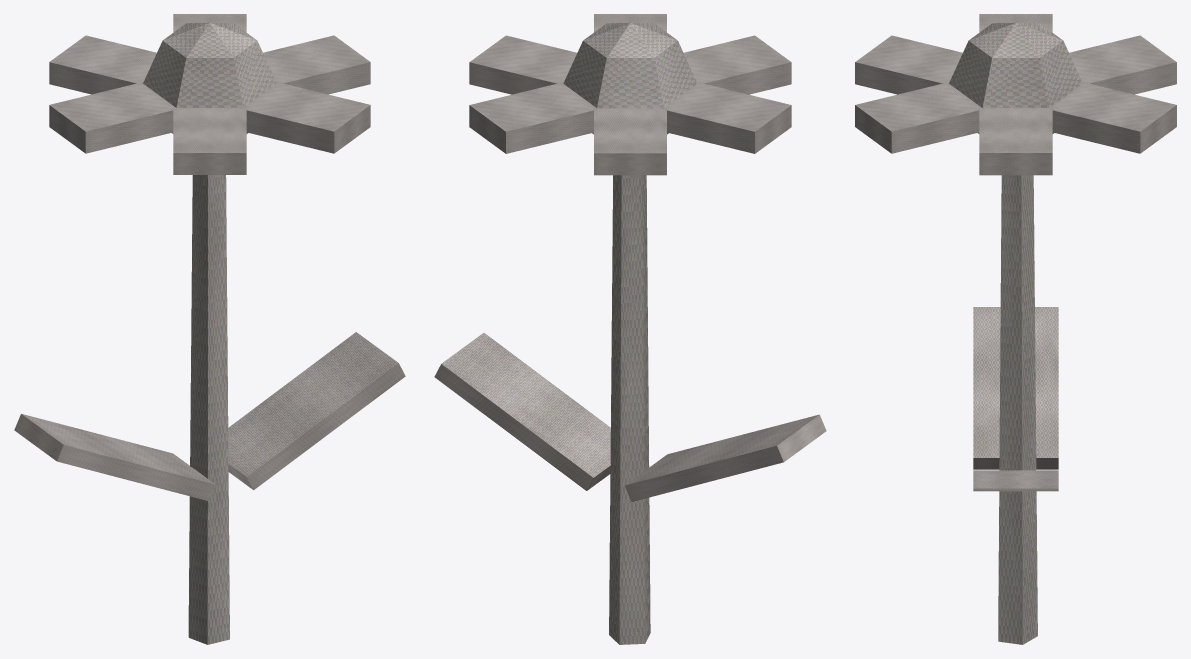
The model's file is flor_de_cinza.glb.
3 renders of one model, left to right at view 1: azimuth 30°, elevation 25°; view 2: azimuth 150°, elevation 25°; view 3: azimuth 270°, elevation 25°, orthographic.
Visible parts, largest first — view 1: flor_de_cinza; view 2: flor_de_cinza; view 3: flor_de_cinza.
Part boxes in pixels (<box>): flor_de_cinza: <box>14,14,405,644</box>; flor_de_cinza: <box>434,14,826,644</box>; flor_de_cinza: <box>855,14,1176,644</box>.
Size of the model in its own units: 0.3306 by 0.555 by 0.2638.
Materials: 1 (1 with a texture image).
